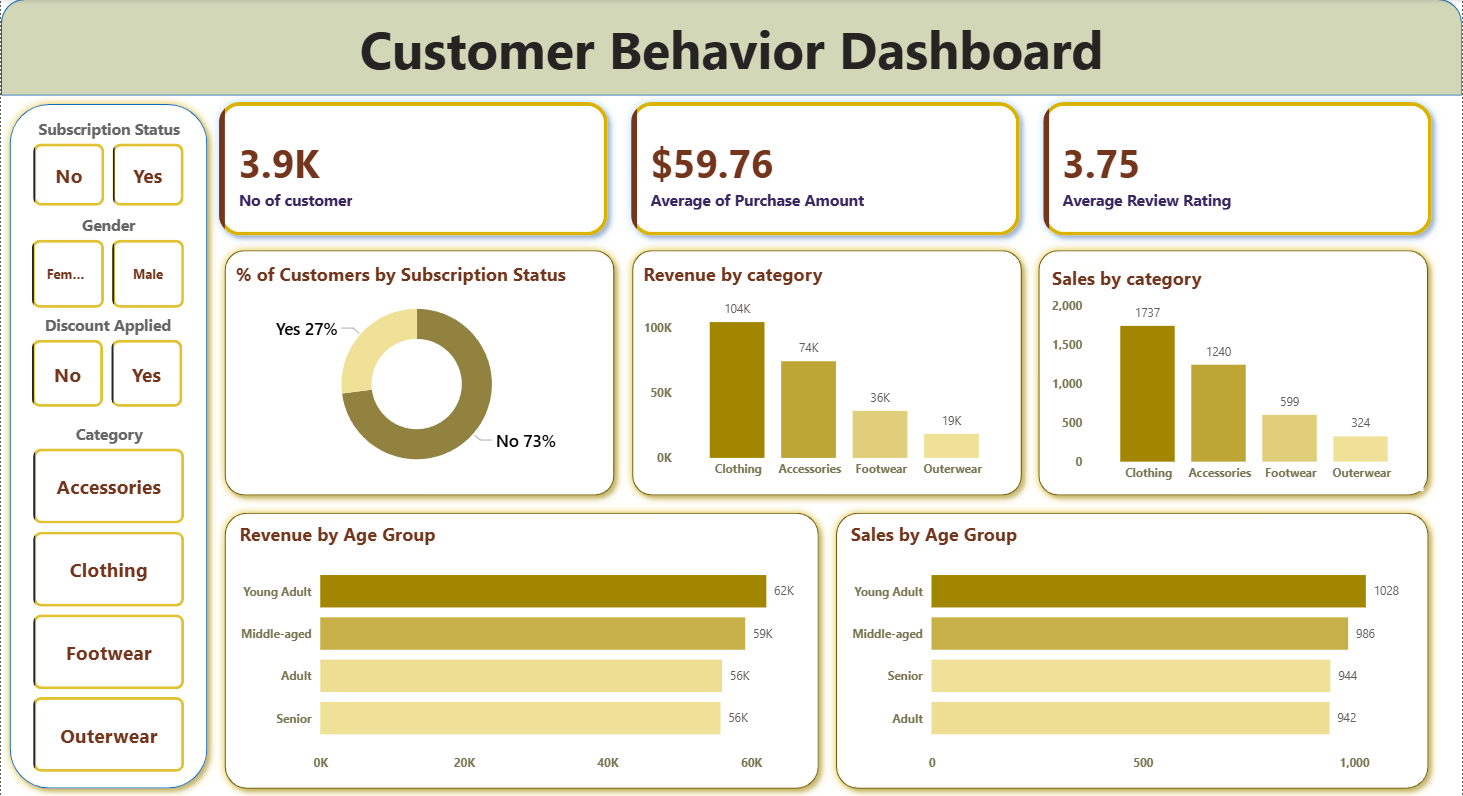

This screenshot's page, from the dashboard's own definition file:
{"tool":"powerbi","page":{"name":"Page 1","canvas":[1500,820],"ordinal":0},"visuals":[{"type":"cardVisual","fields":{"Data":["customer.No of customer","customer.Average of Purchase Amount","customer.Average Review Rating"]},"box":[195.6,77.3,1304.7,195.6],"z":0},{"type":"shape","box":[0,0,1500.3,99.4],"z":1000},{"type":"textbox","box":[0,9.5,1500.3,89.9],"z":2000},{"type":"shape","box":[220.9,249.3,418.1,269.8],"z":3000},{"type":"donutChart","title":"% of Customers by Subscription Status","fields":{"Category":["customer.subscription_status"],"Y":["CountNonNull(customer.customer_id)"]},"box":[236.6,269.8,381.8,231.9],"z":4000},{"type":"shape","box":[638.9,249.3,418.1,269.8],"z":5000},{"type":"shape","box":[1057,249.3,418.1,269.8],"z":6000},{"type":"clusteredColumnChart","title":"Revenue by category","fields":{"Y":["Sum(customer.purchase_amount)"],"Category":["customer.category"]},"box":[654.7,269.8,386.5,231.9],"z":7000},{"type":"clusteredColumnChart","title":"Sales by category","fields":{"Category":["customer.category"],"Y":["CountNonNull(customer.customer_id)"]},"box":[1074.4,272.9,386.5,231.9],"z":8000},{"type":"shape","box":[0,99.4,220.9,721],"z":9000},{"type":"advancedSlicerVisual","title":"Subscription Status","fields":{"Values":["customer.subscription_status"]},"box":[28.4,121.5,165.7,96.2],"z":10000},{"type":"advancedSlicerVisual","fields":{"Values":["customer.gender"]},"box":[26.8,220.9,167.2,102.5],"z":11000},{"type":"advancedSlicerVisual","fields":{"Values":["customer.category"]},"box":[28.4,435.4,165.7,366],"z":12000},{"type":"advancedSlicerVisual","title":"Discount Applied","fields":{"Values":["customer.discount_applied"]},"box":[26.8,323.4,165.7,101],"z":13000},{"type":"shape","box":[220.9,519,627.9,301.3],"z":14000},{"type":"clusteredBarChart","title":"Revenue by Age Group","fields":{"Y":["Sum(customer.purchase_amount)"],"Category":["customer.age_group"]},"box":[239.8,536.4,591.6,266.6],"z":15000},{"type":"shape","box":[848.8,519,626.3,301.3],"z":16000},{"type":"clusteredBarChart","title":"Sales by Age Group","fields":{"Category":["customer.age_group"],"Y":["CountNonNull(customer.customer_id)"]},"box":[867.7,536.4,591.6,266.6],"z":17000}]}

Visuals, with their boxes in screenshot pixels (x1, y1, x2, y2), scaled from the page's 1500x820 canvas onto the 1463x796 screenshot:
cardVisual - customer.No of customer x customer.Average of Purchase Amount: (x1=191, y1=75, x2=1462, y2=265)
shape: (x1=0, y1=0, x2=1462, y2=96)
textbox: (x1=0, y1=9, x2=1462, y2=96)
shape: (x1=215, y1=242, x2=623, y2=504)
"% of Customers by Subscription Status" donutChart: (x1=231, y1=262, x2=603, y2=487)
shape: (x1=623, y1=242, x2=1031, y2=504)
shape: (x1=1031, y1=242, x2=1439, y2=504)
"Revenue by category" clusteredColumnChart: (x1=639, y1=262, x2=1016, y2=487)
"Sales by category" clusteredColumnChart: (x1=1048, y1=265, x2=1425, y2=490)
shape: (x1=0, y1=96, x2=215, y2=795)
"Subscription Status" advancedSlicerVisual: (x1=28, y1=118, x2=189, y2=211)
advancedSlicerVisual - customer.gender: (x1=26, y1=214, x2=189, y2=314)
advancedSlicerVisual - customer.category: (x1=28, y1=423, x2=189, y2=778)
"Discount Applied" advancedSlicerVisual: (x1=26, y1=314, x2=188, y2=412)
shape: (x1=215, y1=504, x2=828, y2=795)
"Revenue by Age Group" clusteredBarChart: (x1=234, y1=521, x2=811, y2=779)
shape: (x1=828, y1=504, x2=1439, y2=795)
"Sales by Age Group" clusteredBarChart: (x1=846, y1=521, x2=1423, y2=779)
